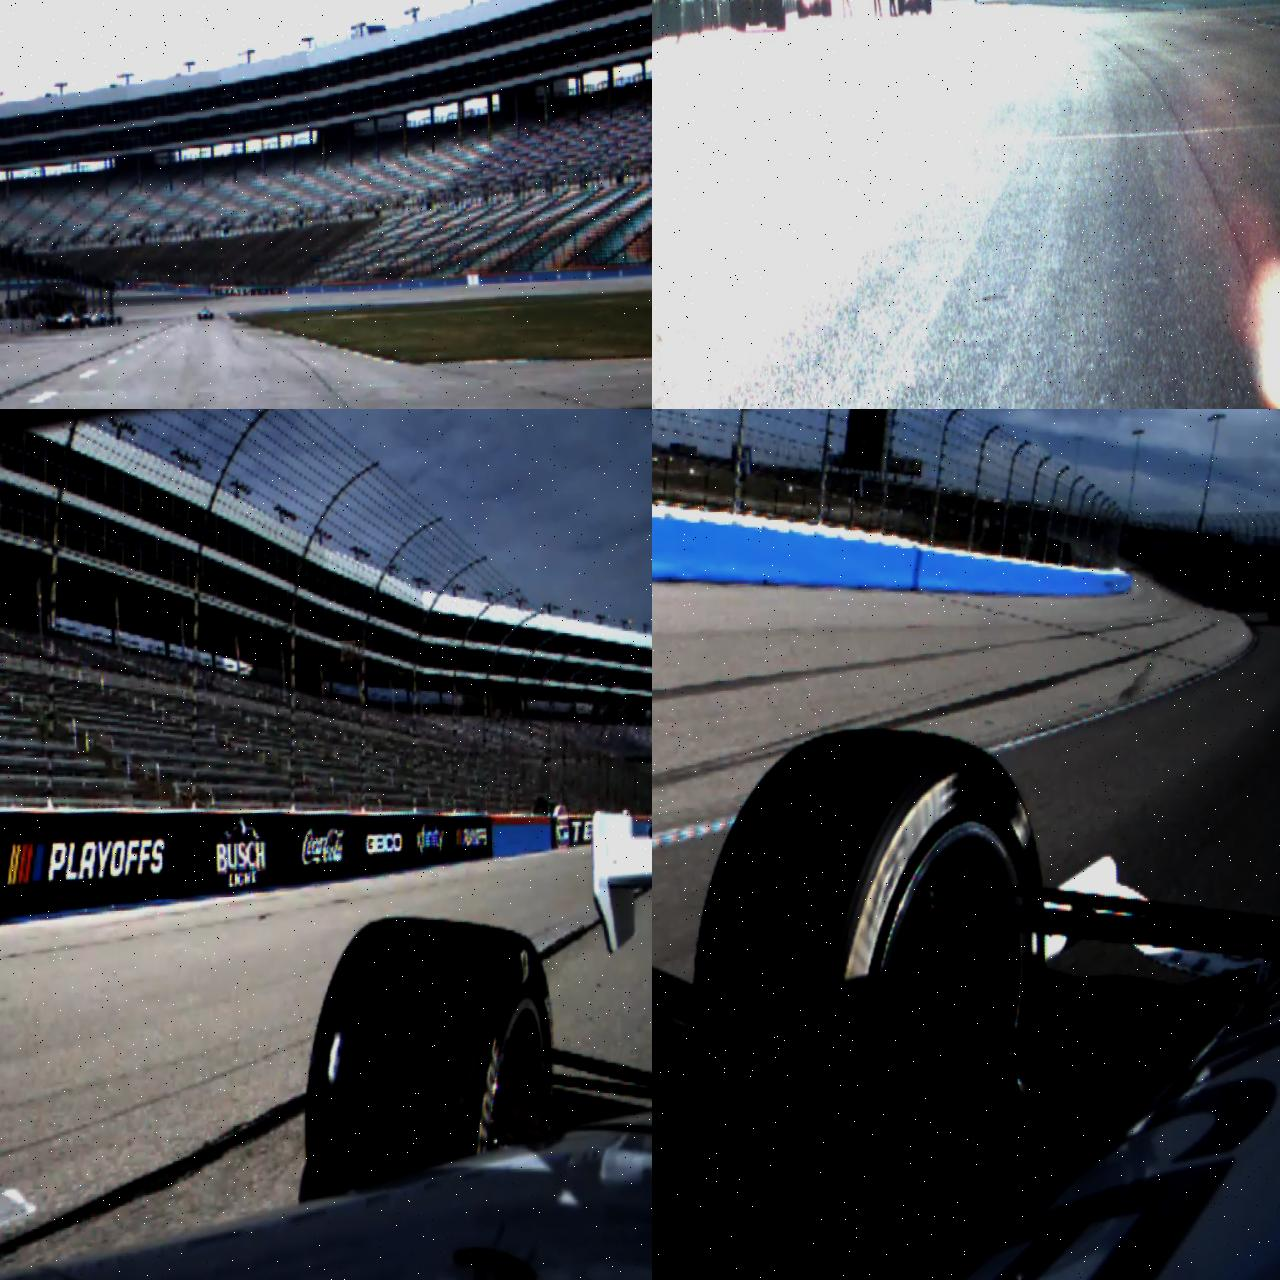AV: (795, 0, 831, 18), (896, 0, 931, 14), (1267, 593, 1280, 625), (197, 306, 213, 320)
Wheel: (685, 720, 1053, 1211), (298, 910, 558, 1179), (1268, 606, 1278, 625), (821, 0, 831, 16), (796, 0, 803, 18), (897, 0, 904, 13), (922, 0, 930, 12)
